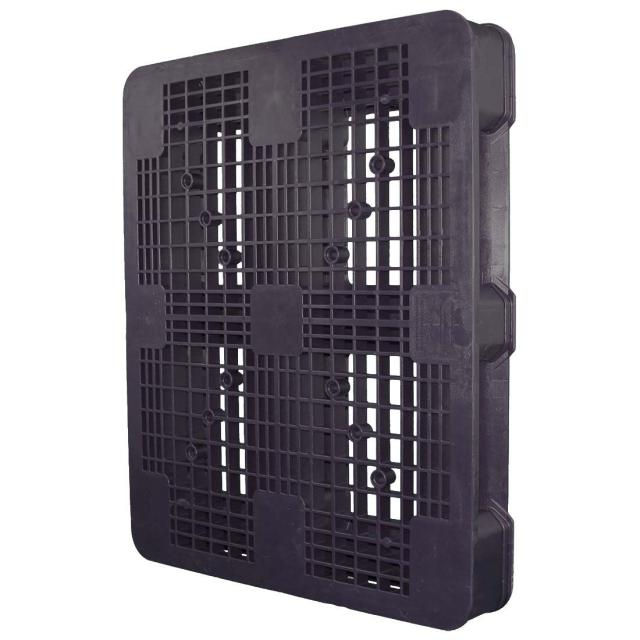non-igps: (115, 2, 525, 636)
